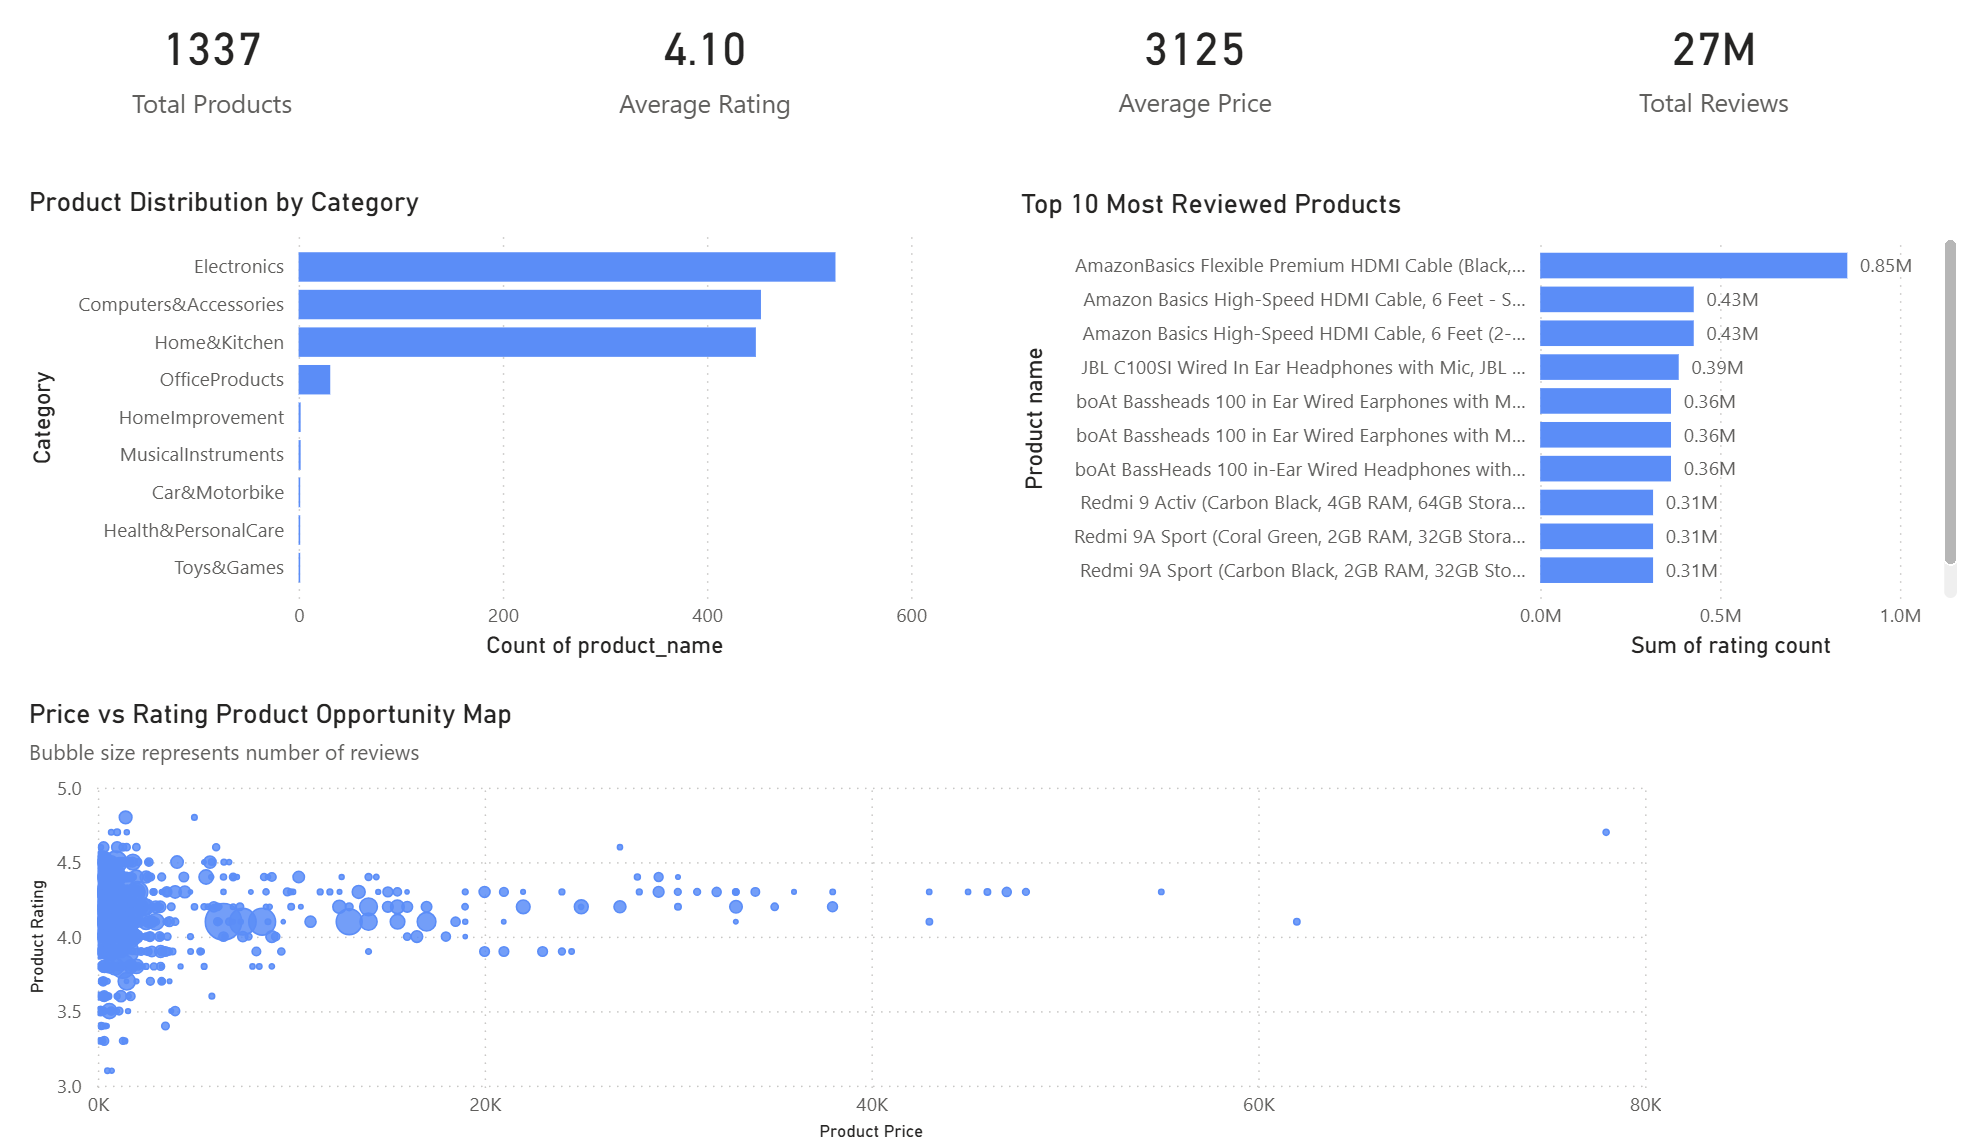

Layout of this report page (visuals, bound fields, positions):
{"tool":"powerbi","page":{"name":"Page 1","canvas":[1280,720],"ordinal":0},"visuals":[{"type":"card","fields":{"Values":["amazon.Total Products"]},"box":[10.2,0,258.8,84.1],"z":0},{"type":"card","fields":{"Values":["amazon.Average Rating"]},"box":[325.2,0,244.8,84.1],"z":1000},{"type":"card","fields":{"Values":["amazon.Average Price"]},"box":[626.3,0,255,83.8],"z":2000},{"type":"card","fields":{"Values":["amazon.Total Reviews"]},"box":[937.5,0,281.2,83.8],"z":3000},{"type":"clusteredBarChart","title":"Product Distribution by Category","fields":{"Category":["amazon.category_clean"],"Y":["CountNonNull(amazon.product_name)"]},"box":[0,119.8,571.2,299.6],"z":4000},{"type":"clusteredBarChart","title":"Top 10 Most Reviewed Products","fields":{"Category":["amazon.product_name"],"Y":["Sum(amazon.rating_count)"]},"box":[640,120,595,298.8],"z":4001},{"type":"scatterChart","title":"Price vs Rating Product Opportunity Map","fields":{"X":["amazon.discounted_price"],"Y":["amazon.rating"],"Size":["Sum(amazon.rating_count)"]},"box":[0,428.4,1030.1,281.8],"z":4002}]}

Visuals, with their boxes on the page's 1280x720 design canvas (x1, y1, x2, y2). These are canvas units, not pixel positions in the 1968x1145 screenshot, which may show the page scaled, cropped or inside an application window:
card - amazon.Total Products: select_region(10, 0, 269, 84)
card - amazon.Average Rating: select_region(325, 0, 570, 84)
card - amazon.Average Price: select_region(626, 0, 881, 84)
card - amazon.Total Reviews: select_region(938, 0, 1219, 84)
"Product Distribution by Category" clusteredBarChart: select_region(0, 120, 571, 419)
"Top 10 Most Reviewed Products" clusteredBarChart: select_region(640, 120, 1235, 419)
"Price vs Rating Product Opportunity Map" scatterChart: select_region(0, 428, 1030, 710)
